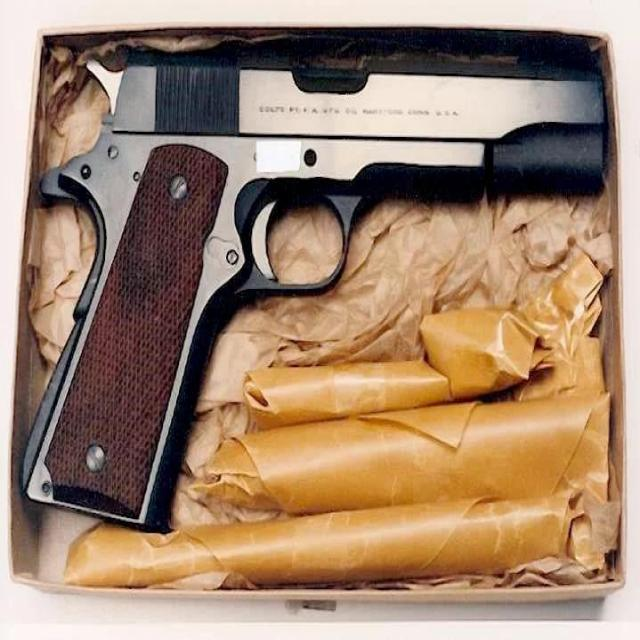gun: (22, 47, 608, 534)
